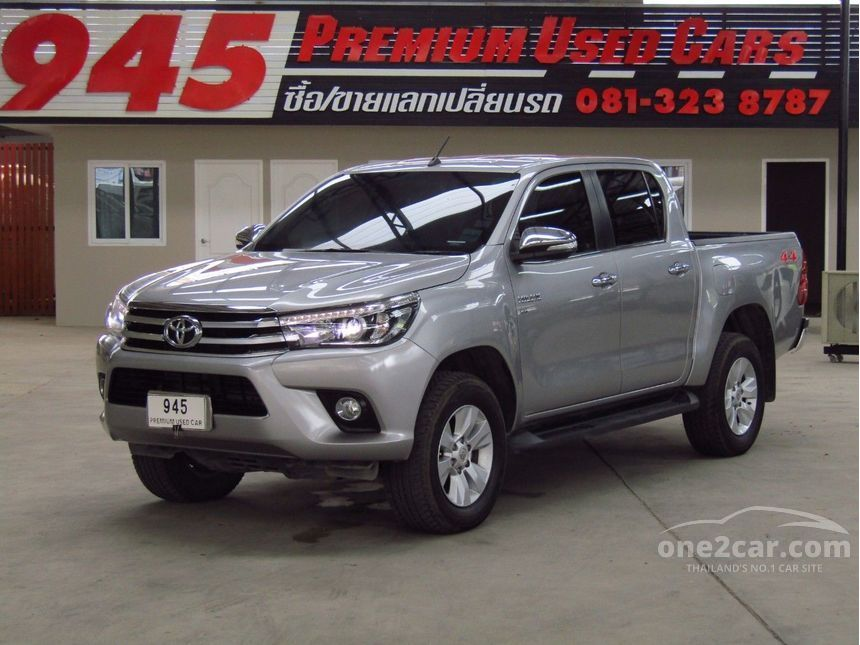pickup: (93, 149, 811, 534)
